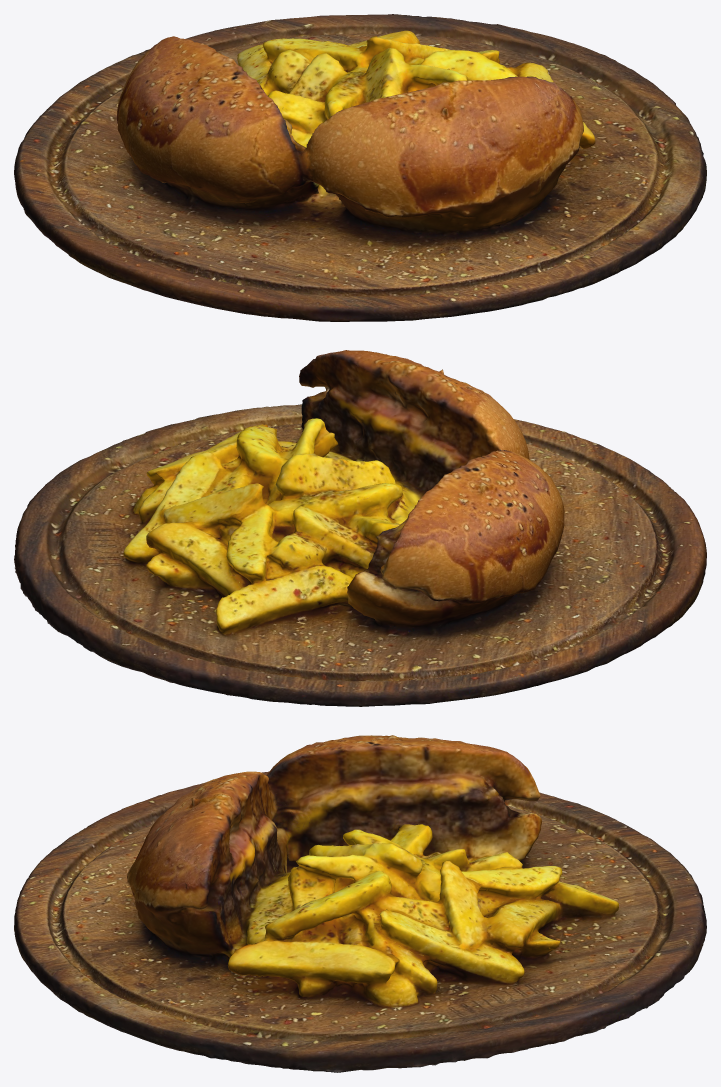
The model's file is Baltazar1-70.glb.
3 views of the same model, one above another, from view 1: azimuth 30°, elevation 25°; view 2: azimuth 150°, elevation 25°; view 3: azimuth 270°, elevation 25° (orthographic).
Parts seen in each view (by area): view 1: Mesh_0_Part_0.001; view 2: Mesh_0_Part_0.001; view 3: Mesh_0_Part_0.001.
Boxes of the visible parts, x1=… form: Mesh_0_Part_0.001: x1=14, y1=14, x2=706, y2=321; Mesh_0_Part_0.001: x1=14, y1=350, x2=706, y2=706; Mesh_0_Part_0.001: x1=14, y1=735, x2=706, y2=1072.
Bounding box in the file's own units: 0.316 × 0.0703 × 0.3152.
Materials: 1 (1 with a texture image).
